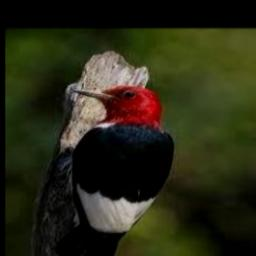Woodpecker: (56, 86, 178, 256)
